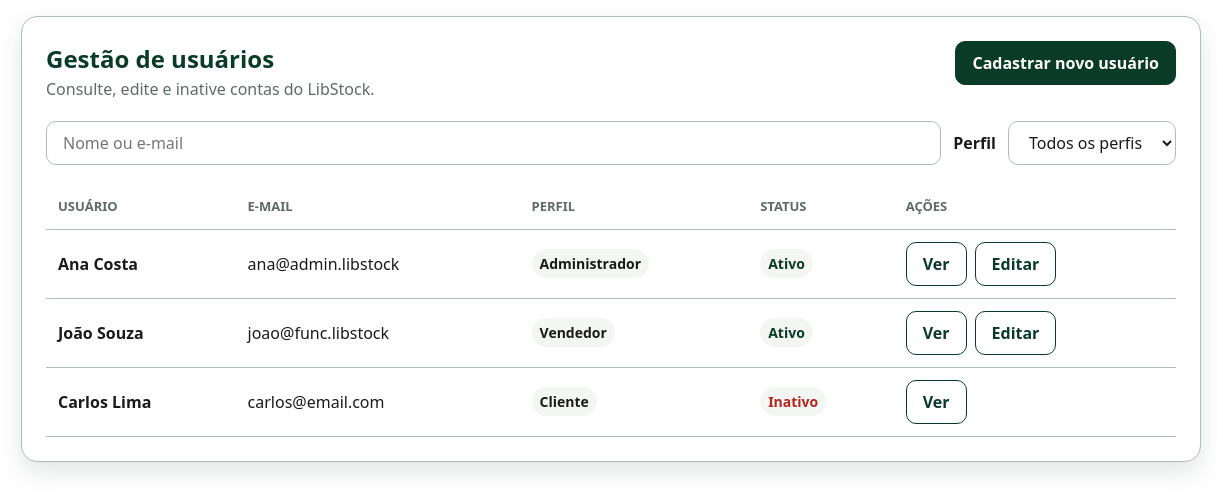
Test: UserManagementComponent › busca por nome ou e-mail e mostra estado vazio sem resultado
Type "CARLOS@" into the search field with id "user-search". click: (494, 143)
box: [46,121,941,165]
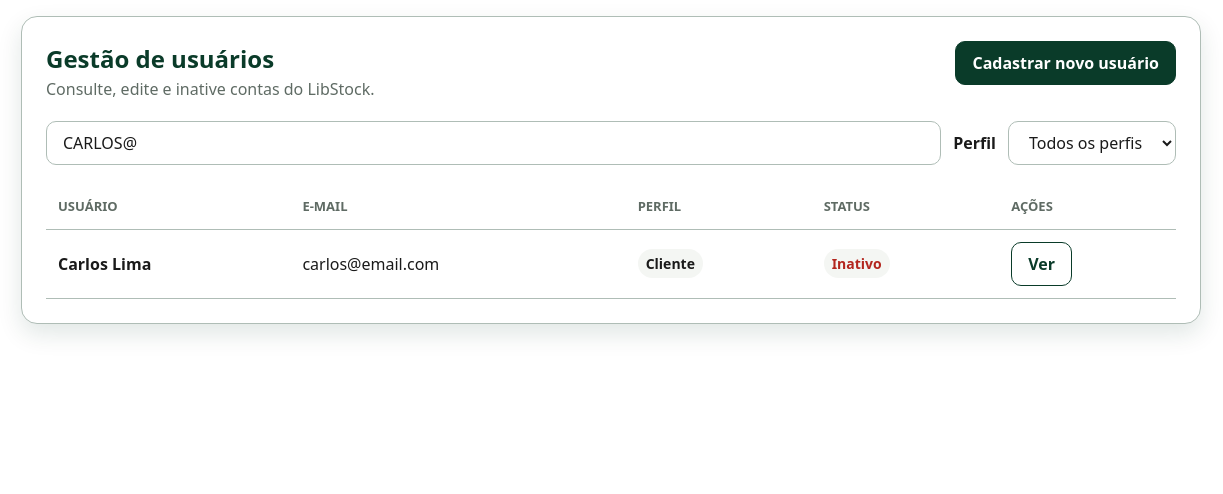
Expected: the row "Carlos Lima carlos@email.com Cliente Inativo Ver" is shown, [46,230,1176,298]
Replace the text in the search field with id "user-search" with "inexistente". click: (494, 143)
box: [46,121,941,165]
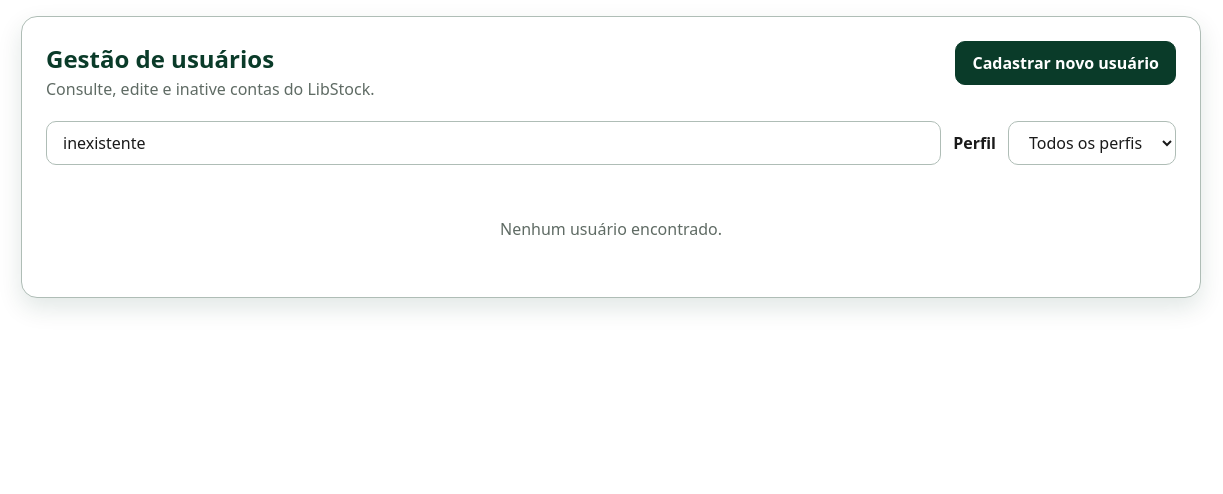
Result: the text "Nenhum usuário encontrado." is shown at [500,218,722,240]
